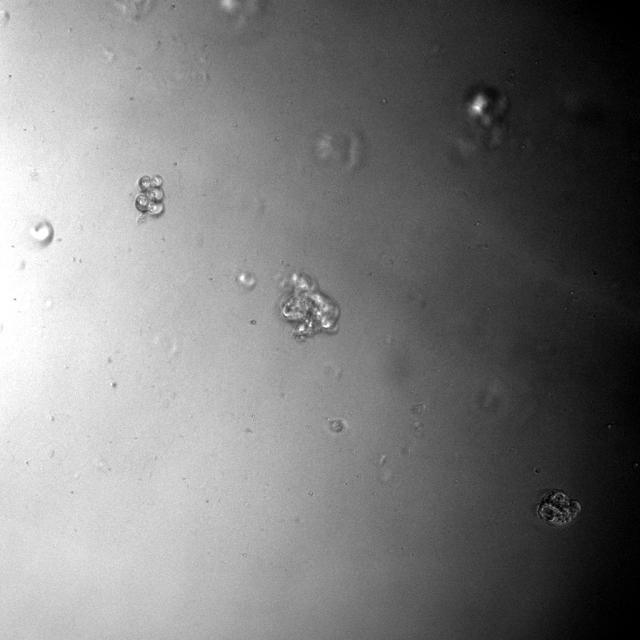organoid: (280, 272, 339, 341), (464, 83, 510, 147), (538, 489, 581, 527), (134, 175, 162, 223), (30, 220, 54, 246), (330, 420, 345, 432)
